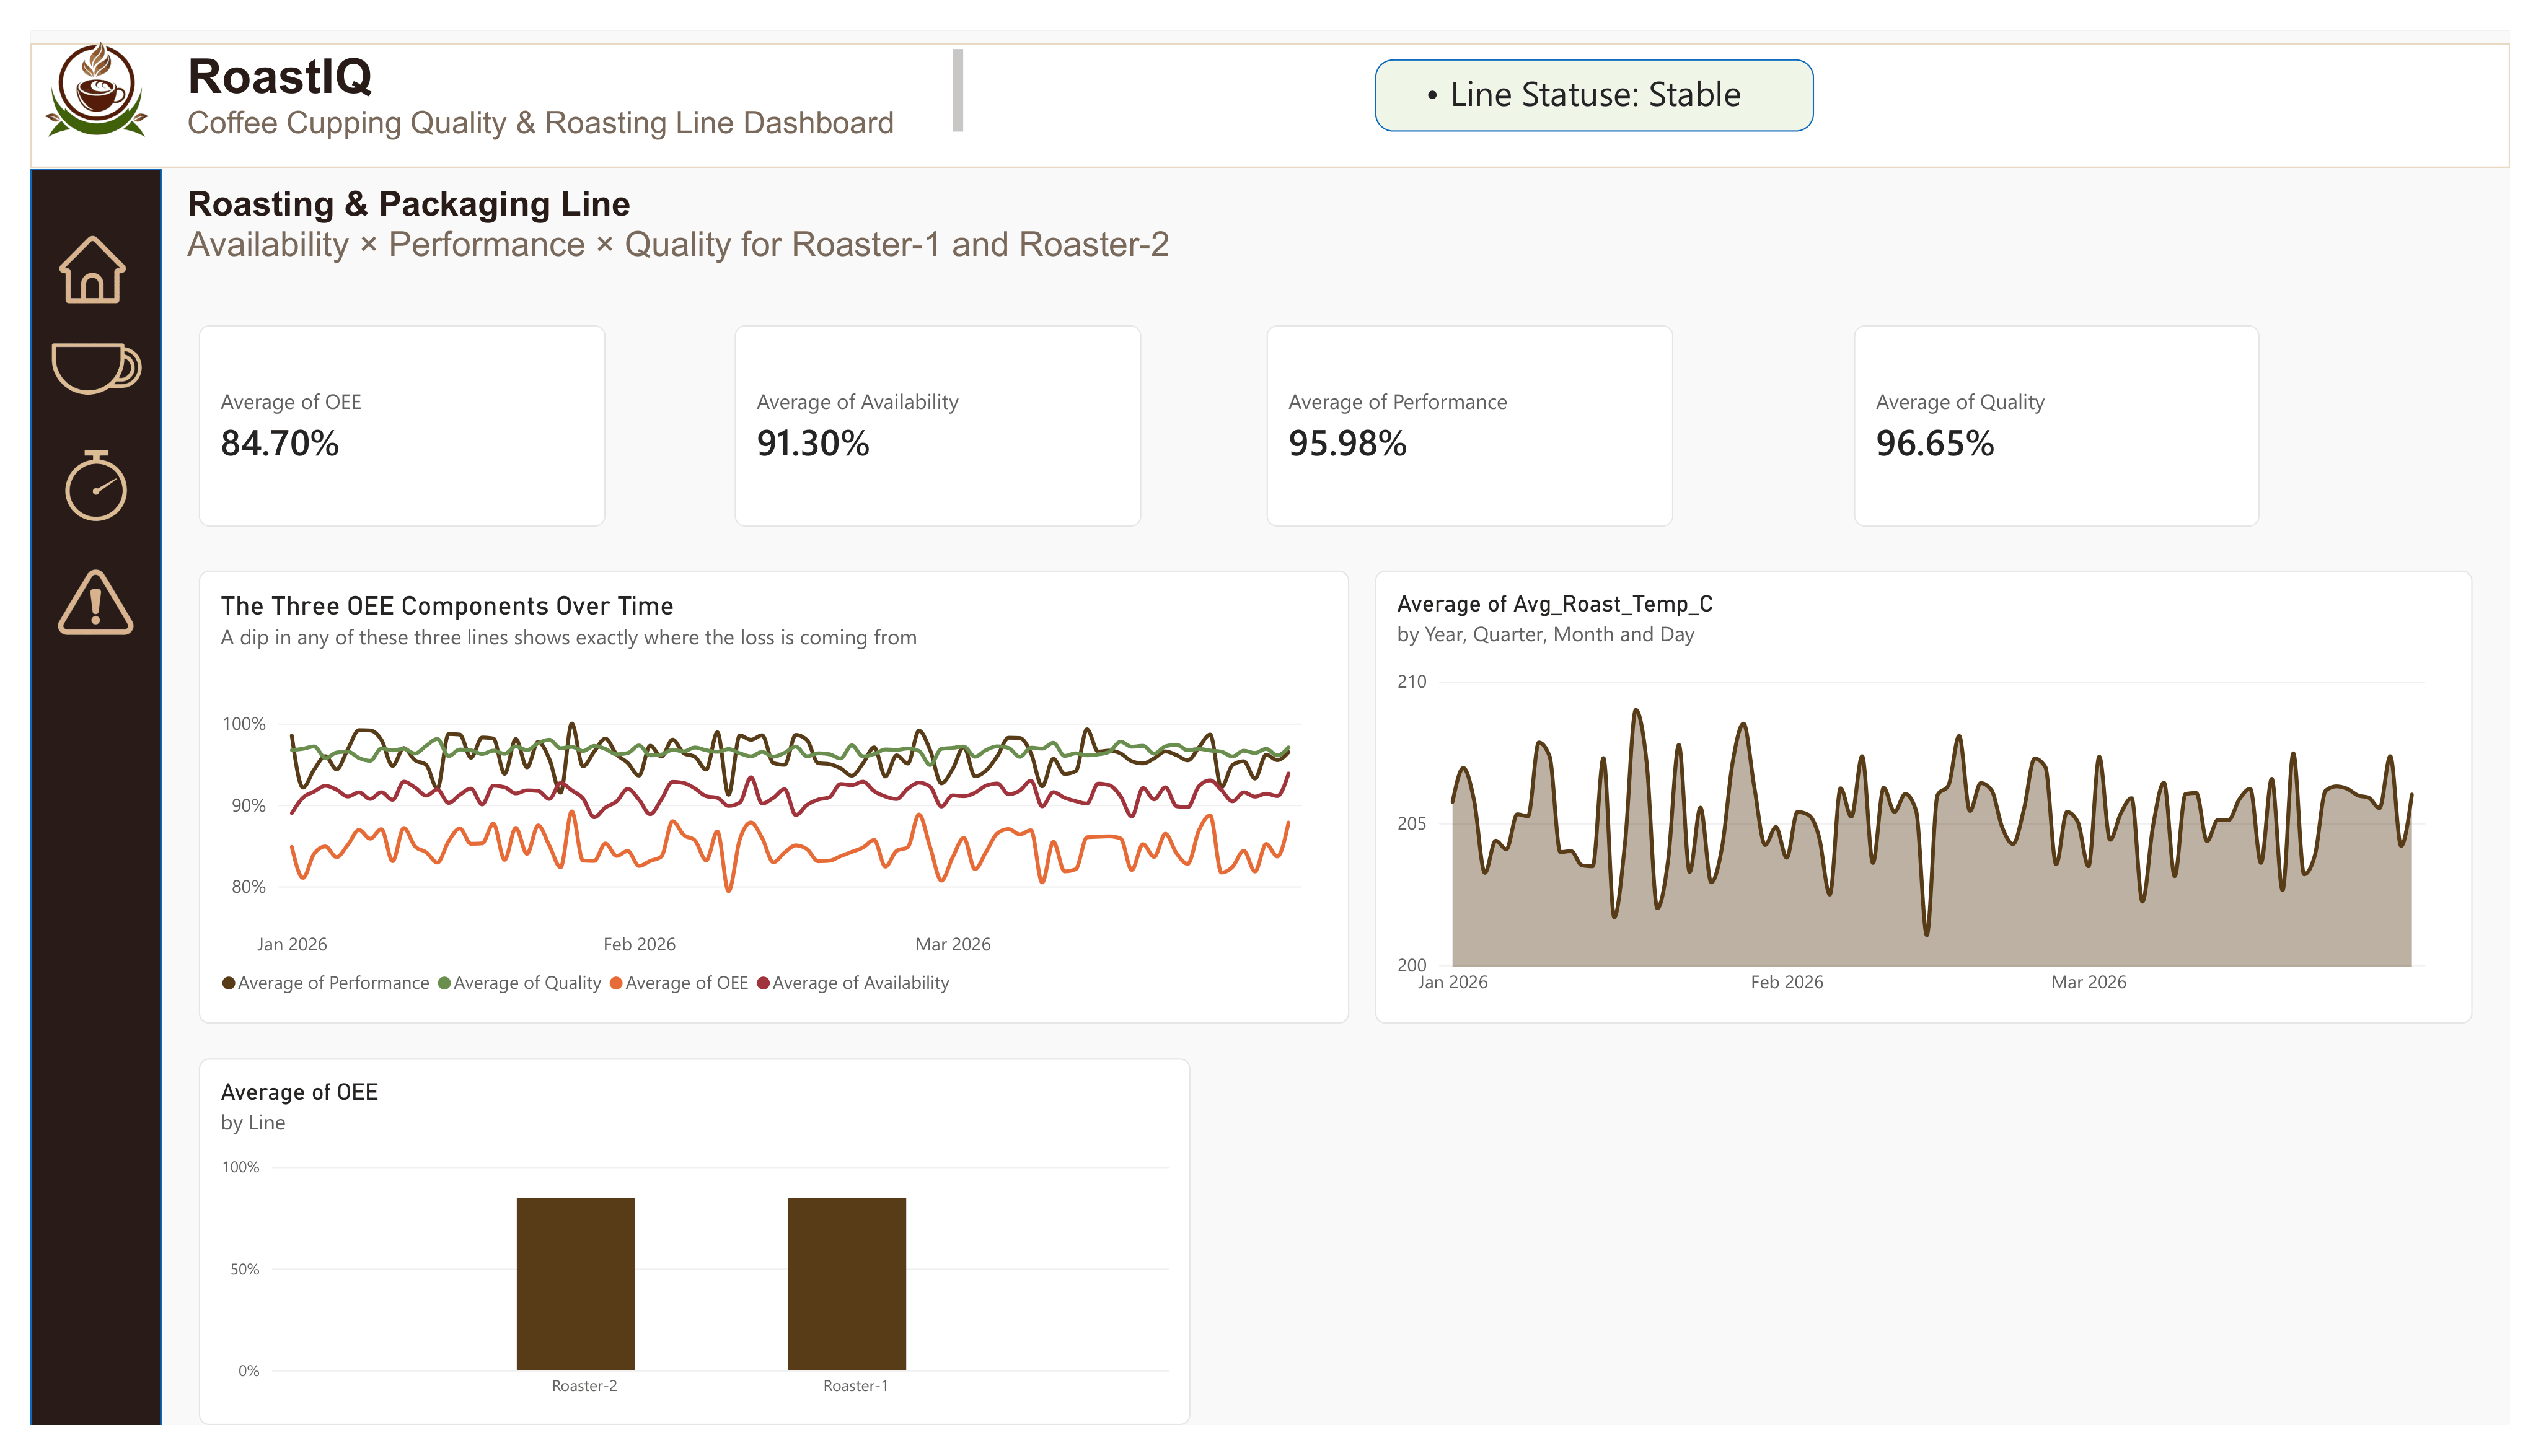

This screenshot's page, from the dashboard's own definition file:
{"tool":"powerbi","page":{"name":"Roasting Line","canvas":[1920,1080],"ordinal":2},"visuals":[{"type":"textbox","box":[121.2,119.4,1172.7,95.9],"z":0},{"type":"shape","box":[0,106.8,101,974],"z":1000},{"type":"cardVisual","fields":{"Data":["Avg(Fact_RoastingLine.OEE)"]},"box":[130.3,228,314.9,155.6],"z":2000},{"type":"cardVisual","fields":{"Data":["Avg(Fact_RoastingLine.Quality)"]},"box":[1411.5,228,314.9,155.6],"z":3000},{"type":"cardVisual","fields":{"Data":["Avg(Fact_RoastingLine.Performance)"]},"box":[957.3,228,314.9,155.6],"z":4000},{"type":"cardVisual","fields":{"Data":["Avg(Fact_RoastingLine.Availability)"]},"box":[544.7,228,314.9,155.6],"z":5000},{"type":"image","box":[9,155.6,77.8,59.7],"z":6000},{"type":"image","box":[12.7,320.3,79.6,63.3],"z":7000},{"type":"image","box":[14.5,412.6,70.6,58],"z":8000},{"type":"image","box":[9,229.8,81.4,61],"z":9000},{"type":"shape","box":[0,10,1920.1,95.9],"z":10000},{"type":"image","box":[2.1,0,97.7,90.5],"z":11000},{"type":"textbox","box":[121.2,14.5,600.8,76],"z":12000},{"type":"shape","box":[1040.8,21.6,340.2,56.1],"z":13000},{"type":"textbox","box":[1058.9,28.8,289.5,49],"z":14000},{"type":"lineChart","title":"The Three OEE Components Over Time","fields":{"Y":["Avg(Fact_RoastingLine.Performance)","Avg(Fact_RoastingLine.Quality)","Avg(Fact_RoastingLine.OEE)","Avg(Fact_RoastingLine.Availability)"],"Category":["Fact_RoastingLine.Date.Variation.Date Hierarchy.Year","Fact_RoastingLine.Date.Variation.Date Hierarchy.Quarter","Fact_RoastingLine.Date.Variation.Date Hierarchy.Month","Fact_RoastingLine.Date.Variation.Date Hierarchy.Day"]},"box":[130.3,418,890.4,351.1],"z":15000},{"type":"areaChart","fields":{"Y":["Avg(Fact_RoastingLine.Avg_Roast_Temp_C)"],"Category":["Fact_RoastingLine.Date.Variation.Date Hierarchy.Year","Fact_RoastingLine.Date.Variation.Date Hierarchy.Quarter","Fact_RoastingLine.Date.Variation.Date Hierarchy.Month","Fact_RoastingLine.Date.Variation.Date Hierarchy.Day"]},"box":[1040.6,418,850.5,351.1],"z":16000},{"type":"clusteredColumnChart","fields":{"Category":["Fact_RoastingLine.Line"],"Y":["Avg(Fact_RoastingLine.OEE)"]},"box":[130.3,796.3,767.3,284.1],"z":17000}]}

Visuals, with their boxes on the page's 1920x1080 design canvas (x1, y1, x2, y2). These are canvas units, not pixel positions in the 2541x1456 screenshot, which may show the page scaled, cropped or inside an application window:
textbox: Rect(121, 119, 1294, 215)
shape: Rect(0, 107, 101, 1081)
cardVisual - Avg(Fact_RoastingLine.OEE): Rect(130, 228, 445, 384)
cardVisual - Avg(Fact_RoastingLine.Quality): Rect(1412, 228, 1726, 384)
cardVisual - Avg(Fact_RoastingLine.Performance): Rect(957, 228, 1272, 384)
cardVisual - Avg(Fact_RoastingLine.Availability): Rect(545, 228, 860, 384)
image: Rect(9, 156, 87, 215)
image: Rect(13, 320, 92, 384)
image: Rect(14, 413, 85, 471)
image: Rect(9, 230, 90, 291)
shape: Rect(0, 10, 1920, 106)
image: Rect(2, 0, 100, 90)
textbox: Rect(121, 14, 722, 90)
shape: Rect(1041, 22, 1381, 78)
textbox: Rect(1059, 29, 1348, 78)
"The Three OEE Components Over Time" lineChart: Rect(130, 418, 1021, 769)
areaChart - Avg(Fact_RoastingLine.Avg_Roast_Temp_C) x Fact_RoastingLine.Date.Variation.Date Hierarchy.Year: Rect(1041, 418, 1891, 769)
clusteredColumnChart - Fact_RoastingLine.Line x Avg(Fact_RoastingLine.OEE): Rect(130, 796, 898, 1080)
